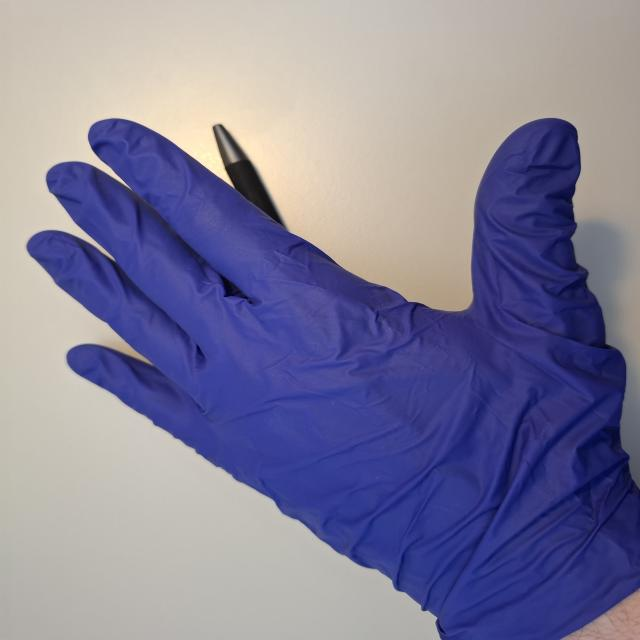glove_on: (22, 115, 640, 637)
